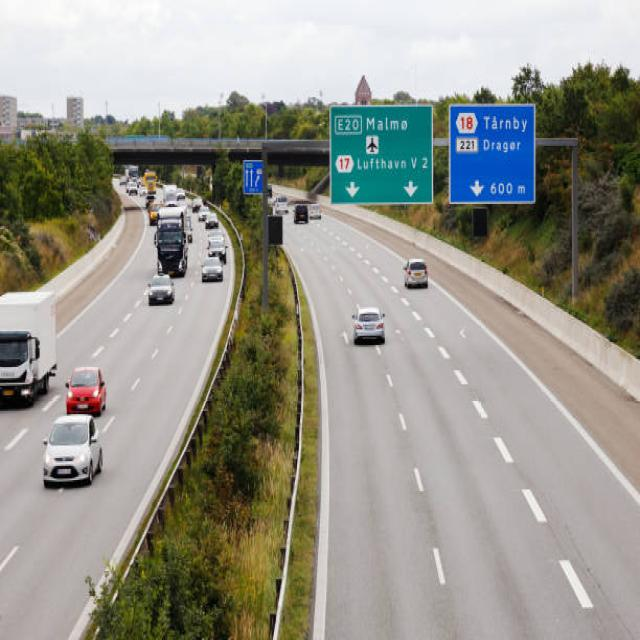Car: (41, 411, 102, 488), (64, 366, 106, 416), (351, 304, 385, 344), (148, 273, 175, 304), (402, 257, 428, 289)
Traffic-sign: (328, 103, 433, 204), (448, 102, 536, 204)
Truck: (0, 288, 56, 406)
